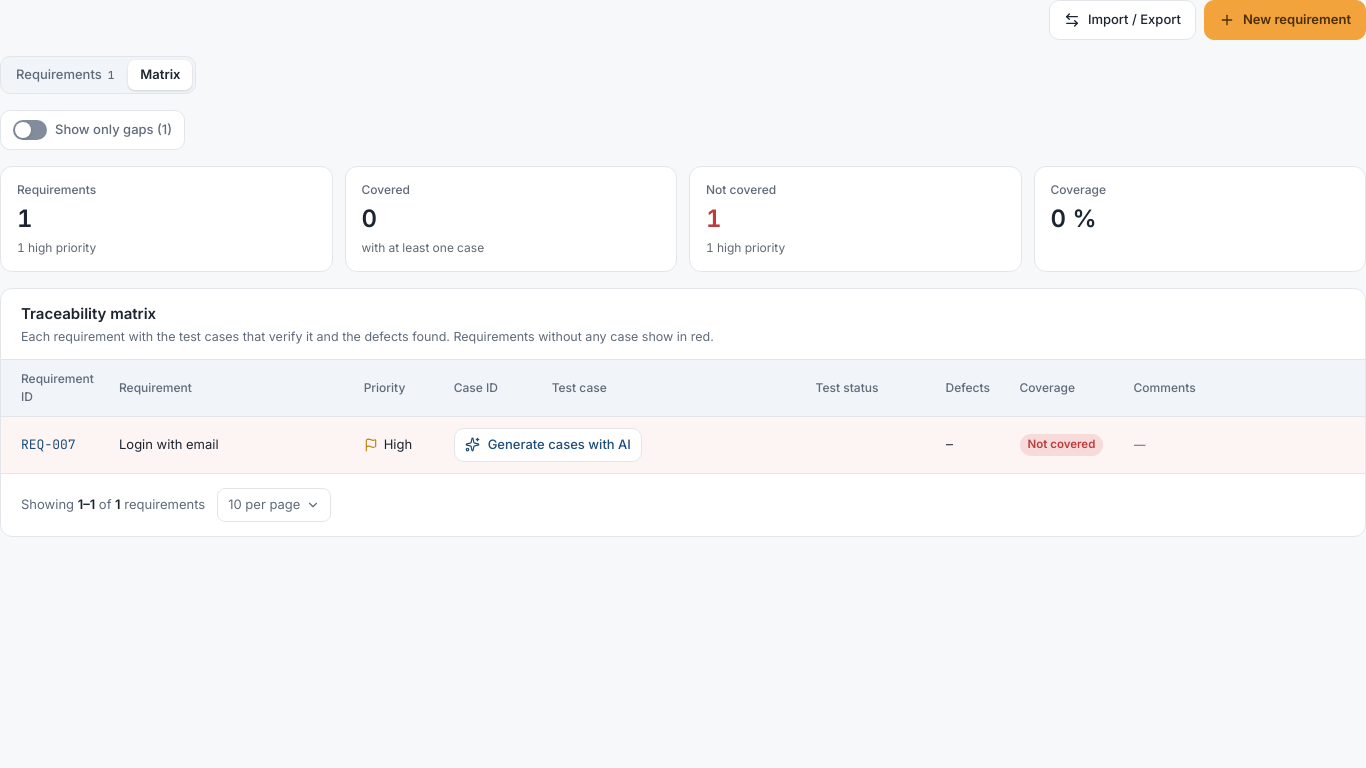
it: Trazabilidad — AI button on an uncovered requirement (IA-05) › when every save fails there is no success toast and the modal stays open
Click the button with aria-label "Generate cases with AI from REQ-007" at (548, 444), box [454, 428, 642, 462]
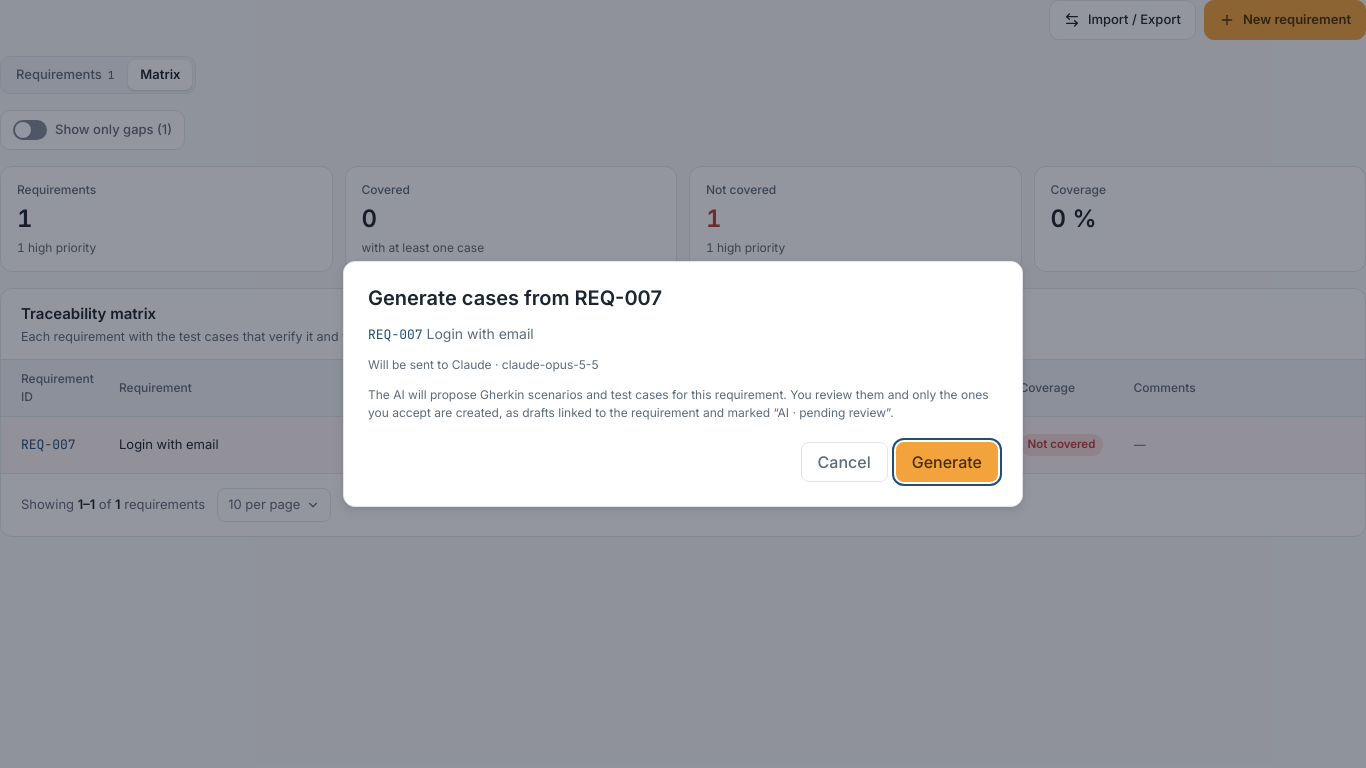
Click the button "Generate" at (947, 462), box [896, 442, 998, 482]
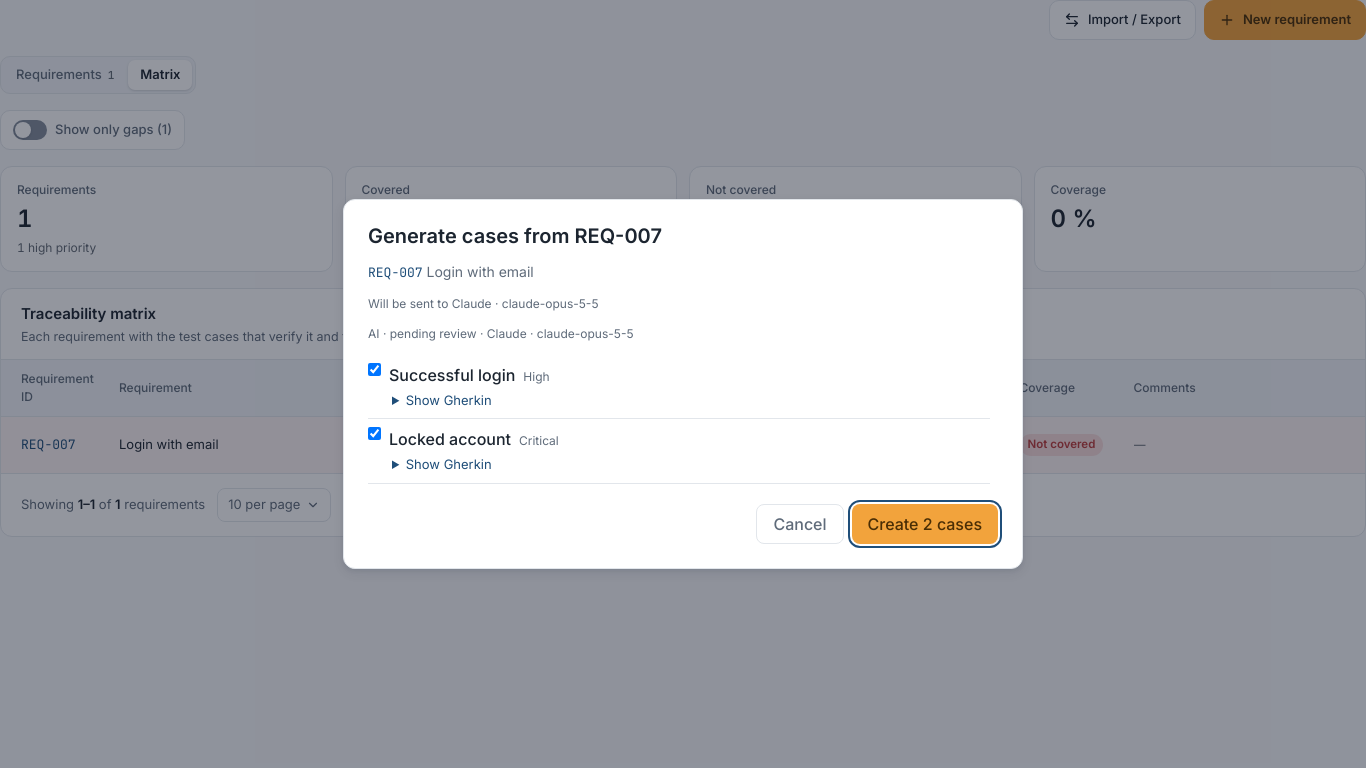
Click the button "Create 2 cases" at (925, 524), box [852, 504, 998, 544]
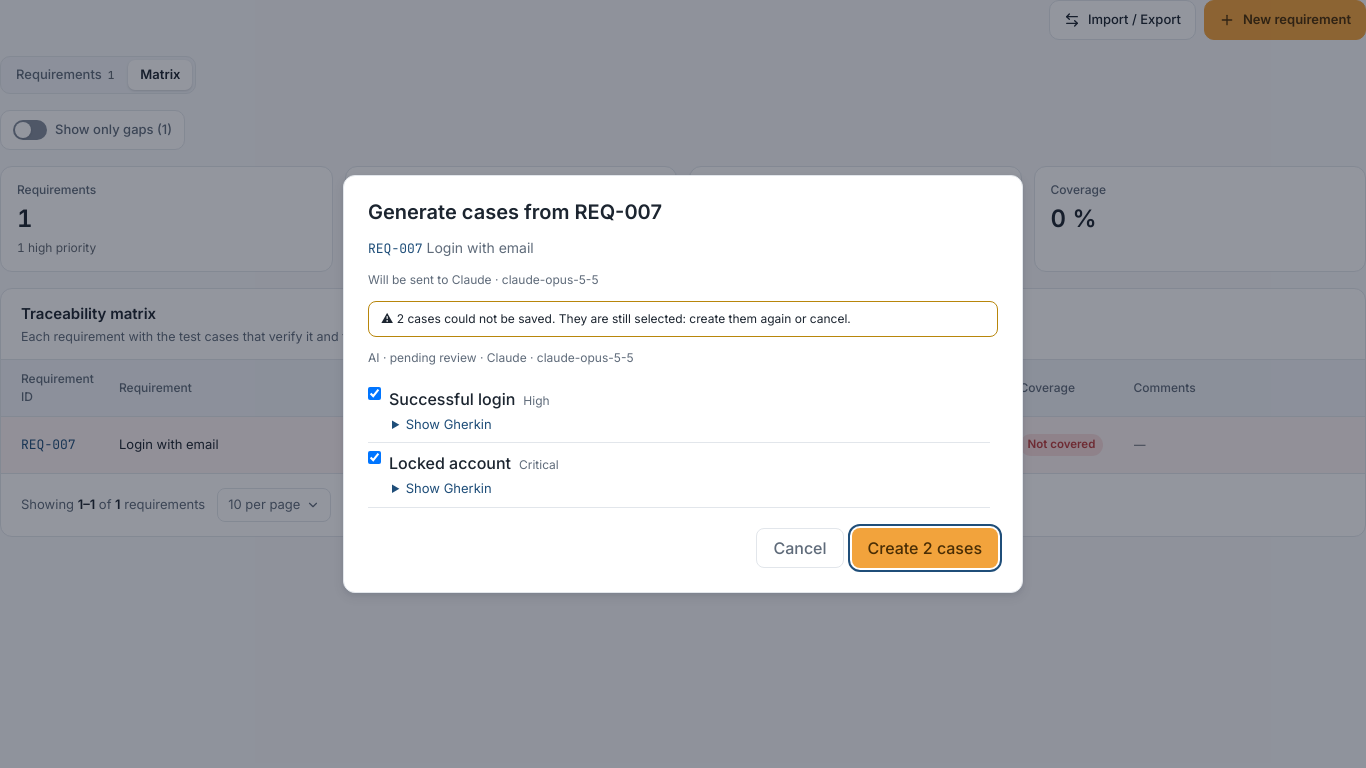
Now the dialog is shown, box [343, 175, 1023, 593]
Now the button "Create 2 cases" is enabled, box [852, 528, 998, 568]
Now the message shows "2 cases could not be saved", box [397, 311, 851, 326]
